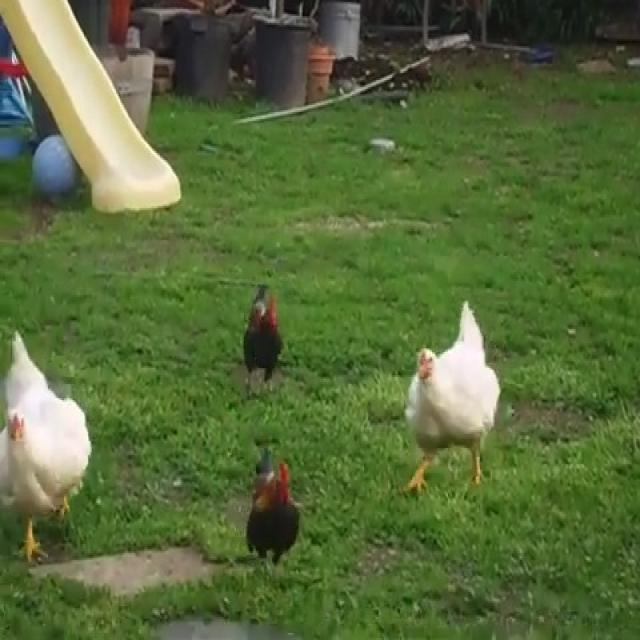running: (0, 328, 101, 565), (406, 293, 502, 505), (233, 267, 292, 393), (250, 446, 302, 576)
